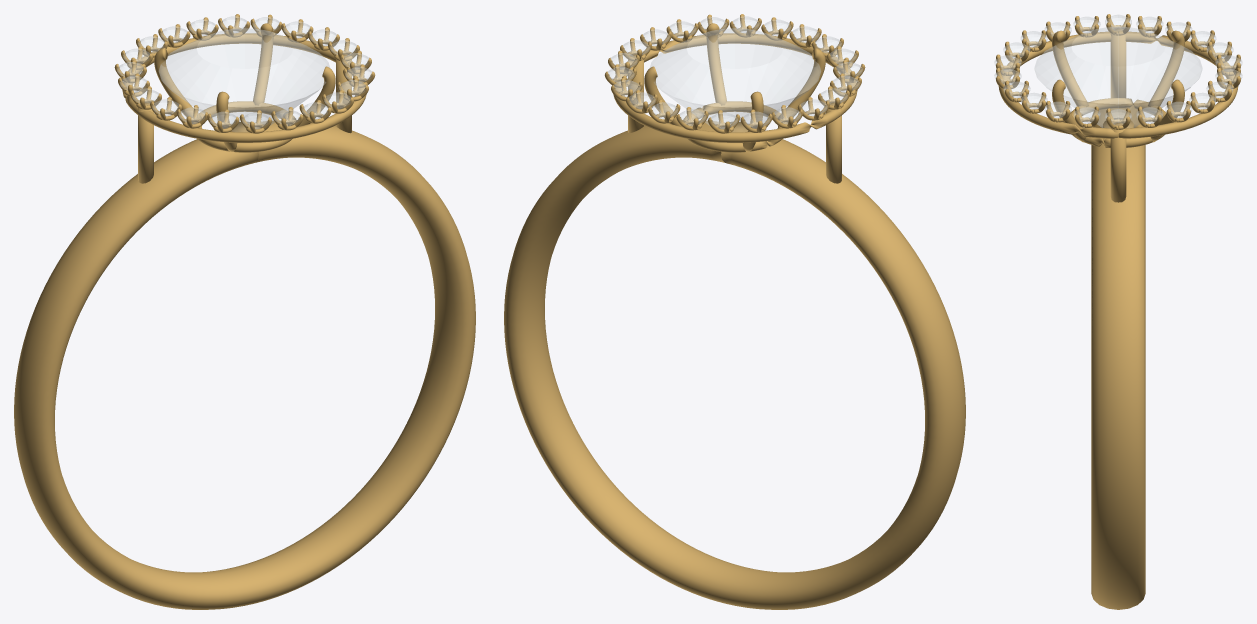
File: layouts-halo.glb
3 renders of one model, left to right at view 1: azimuth 30°, elevation 25°; view 2: azimuth 150°, elevation 25°; view 3: azimuth 270°, elevation 25°, orthographic. The views are drawn at different scales.
Visible parts, largest first — view 1: Band, Gem, Bezel rim, Lower gallery, Side head support.001, Prong, Prong.001; view 2: Band, Gem, Bezel rim, Lower gallery, Side head support.001, Prong.003, Prong.002; view 3: Band, Gem, Bezel rim, Lower gallery, Side head support, Side head support.001, Prong.001, Prong.002, Prong.003, Prong.
Boxes of the visible parts, x1,y1,x2,y2 form: Band: (14,120,475,609); Gem: (159,28,329,131); Bezel rim: (122,33,366,142); Lower gallery: (192,101,296,152); Side head support.001: (138,102,153,183); Prong: (253,23,273,105); Prong.001: (154,48,201,122); Band: (504,120,965,609); Gem: (650,28,820,131); Bezel rim: (613,33,857,142); Lower gallery: (683,101,787,152); Side head support.001: (826,102,841,183); Prong.003: (706,23,726,105); Prong.002: (778,48,825,122); Band: (1091,106,1145,609); Gem: (1034,26,1202,127); Bezel rim: (998,31,1238,138); Lower gallery: (1070,98,1166,147); Side head support: (1110,122,1126,202); Side head support.001: (1110,28,1126,98); Prong.001: (1148,30,1184,106); Prong.002: (1052,30,1088,106); Prong.003: (1052,79,1086,142); Prong: (1150,79,1184,142).
Size of the model in its own units: 19.6 by 22.94 by 9.56.
